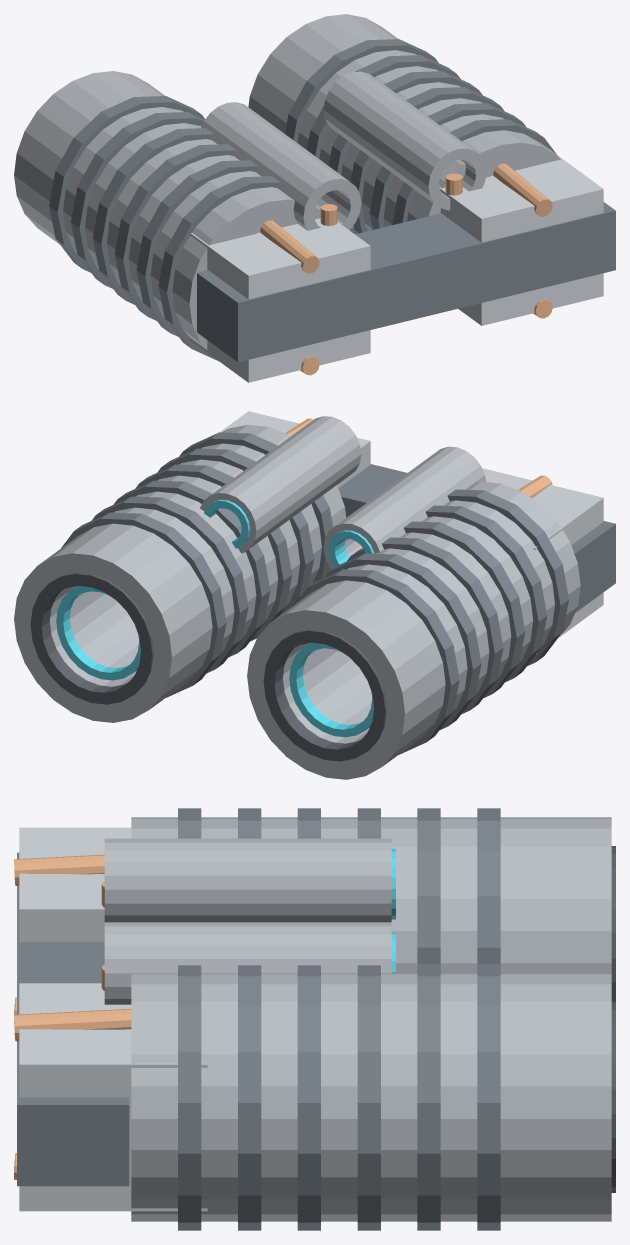
The model's file is engine_nova.glb.
3 renders of one model, top to bottom at view 1: azimuth 30°, elevation 25°; view 2: azimuth 150°, elevation 25°; view 3: azimuth 270°, elevation 25°, orthographic. The views are drawn at different scales.
Parts seen in each view (by area): view 1: CASSETTE_CORE_CRADLE, MAIN_-1_HOLLOW_BELL, MAIN_1_HOLLOW_BELL, MAIN_-1_ENGINE_BLOCK, MAIN_1_ENGINE_BLOCK, UPPER_1_BOOSTER_BORE, UPPER_-1_BOOSTER_BORE, MAIN_-1_HEAT_RING_5, MAIN_-1_HEAT_RING_4, MAIN_-1_HEAT_RING_0, MAIN_-1_HEAT_RING_1, MAIN_-1_HEAT_RING_2 (+9 smaller); view 2: MAIN_-1_HOLLOW_BELL, MAIN_1_HOLLOW_BELL, UPPER_1_BOOSTER_BORE, UPPER_-1_BOOSTER_BORE, MAIN_-1_INNER_RIM, MAIN_1_INNER_RIM, CASSETTE_CORE_CRADLE, MAIN_-1_HEAT_RING_5, MAIN_1_HEAT_RING_5, MAIN_-1_HEAT_RING_4, MAIN_1_HEAT_RING_4, MAIN_-1_ENGINE_BLOCK (+13 smaller); view 3: MAIN_1_HOLLOW_BELL, MAIN_-1_HOLLOW_BELL, UPPER_-1_BOOSTER_BORE, UPPER_1_BOOSTER_BORE, CASSETTE_CORE_CRADLE, MAIN_1_ENGINE_BLOCK, MAIN_-1_ENGINE_BLOCK, MAIN_1_HEAT_RING_4, MAIN_1_HEAT_RING_5, MAIN_1_HEAT_RING_0, MAIN_1_HEAT_RING_1, MAIN_1_HEAT_RING_2 (+11 smaller).
Part boxes in pixels (<box>): CASSETTE_CORE_CRADLE: <box>197,202,615,362</box>; MAIN_-1_HOLLOW_BELL: <box>14,71,320,349</box>; MAIN_1_HOLLOW_BELL: <box>248,14,560,230</box>; MAIN_-1_ENGINE_BLOCK: <box>190,207,370,382</box>; MAIN_1_ENGINE_BLOCK: <box>439,147,603,325</box>; UPPER_1_BOOSTER_BORE: <box>323,71,486,210</box>; UPPER_-1_BOOSTER_BORE: <box>201,102,361,230</box>; MAIN_-1_HEAT_RING_5: <box>49,96,204,272</box>; MAIN_-1_HEAT_RING_4: <box>71,112,204,288</box>; MAIN_-1_HEAT_RING_0: <box>158,176,279,361</box>; MAIN_-1_HEAT_RING_1: <box>136,160,258,336</box>; MAIN_-1_HEAT_RING_2: <box>114,144,236,320</box>; MAIN_-1_HOLLOW_BELL: <box>247,481,580,779</box>; MAIN_1_HOLLOW_BELL: <box>14,424,346,722</box>; UPPER_1_BOOSTER_BORE: <box>200,416,361,553</box>; UPPER_-1_BOOSTER_BORE: <box>323,446,485,569</box>; MAIN_-1_INNER_RIM: <box>263,629,386,761</box>; MAIN_1_INNER_RIM: <box>30,572,153,704</box>; CASSETTE_CORE_CRADLE: <box>338,464,615,612</box>; MAIN_-1_HEAT_RING_5: <box>294,569,459,754</box>; MAIN_1_HEAT_RING_5: <box>61,512,226,697</box>; MAIN_-1_HEAT_RING_4: <box>325,553,481,729</box>; MAIN_1_HEAT_RING_4: <box>91,496,248,673</box>; MAIN_-1_ENGINE_BLOCK: <box>482,468,603,654</box>; MAIN_1_HOLLOW_BELL: <box>131,973,611,1221</box>; MAIN_-1_HOLLOW_BELL: <box>131,817,611,972</box>; UPPER_-1_BOOSTER_BORE: <box>104,838,391,922</box>; UPPER_1_BOOSTER_BORE: <box>104,922,391,1004</box>; CASSETTE_CORE_CRADLE: <box>17,852,129,1186</box>; MAIN_1_ENGINE_BLOCK: <box>19,983,207,1211</box>; MAIN_-1_ENGINE_BLOCK: <box>19,827,131,941</box>; MAIN_1_HEAT_RING_4: <box>417,964,440,1230</box>; MAIN_1_HEAT_RING_5: <box>477,964,500,1230</box>; MAIN_1_HEAT_RING_0: <box>178,965,201,1230</box>; MAIN_1_HEAT_RING_1: <box>238,965,261,1230</box>; MAIN_1_HEAT_RING_2: <box>297,965,320,1230</box>.
Bounding box in the file's own units: 1.41 × 0.6295 × 1.34.
